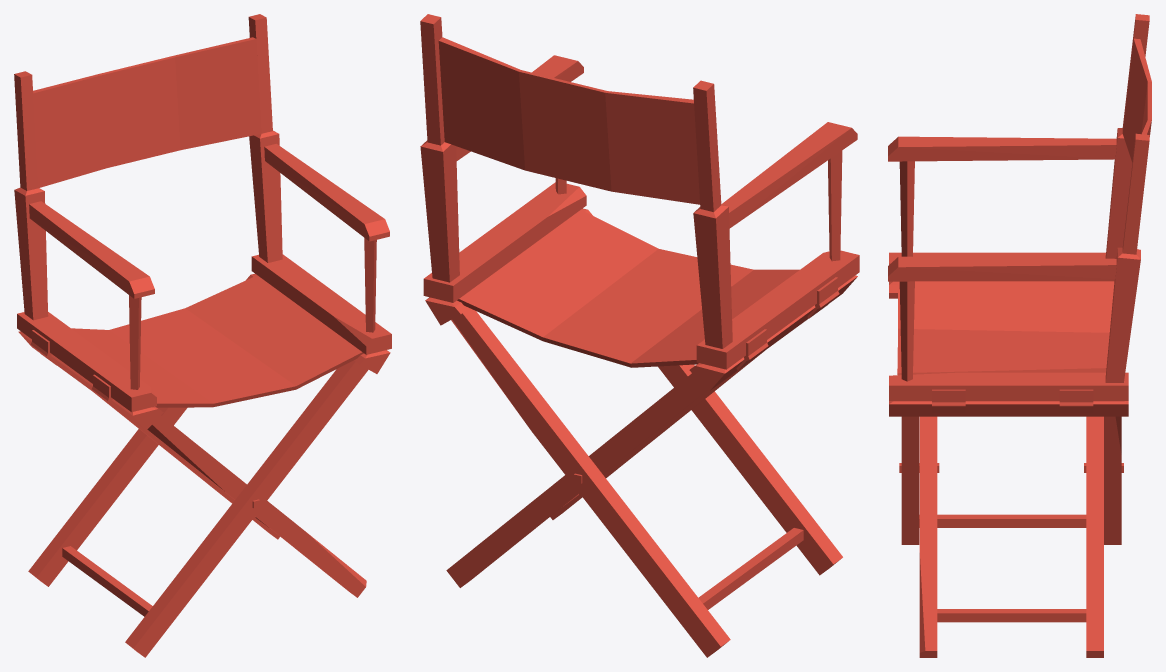
Rendered from SM_Chair_Director.fbx.
3 renders of one model, left to right at view 1: azimuth 30°, elevation 25°; view 2: azimuth 150°, elevation 25°; view 3: azimuth 270°, elevation 25°, orthographic. The views are drawn at different scales.
Parts seen in each view (by area): view 1: SM_Chair_Director; view 2: SM_Chair_Director; view 3: SM_Chair_Director.
Part boxes in pixels (x1,y1,x2,y2): SM_Chair_Director: (14,14,391,657); SM_Chair_Director: (420,14,859,657); SM_Chair_Director: (888,14,1151,657).
Bounding box in the file's own units: 40.16 × 49.01 × 88.1.
